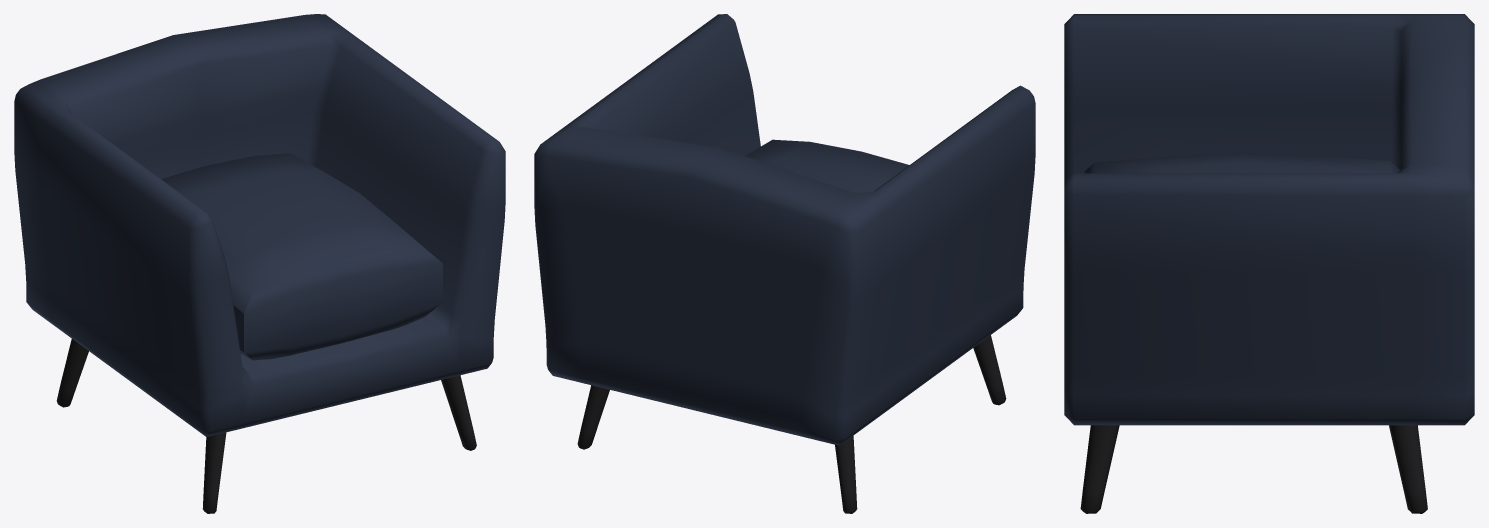
File: pk_accent_navy.glb
The picture shows the model from 3 angles, left to right: view 1: azimuth 30°, elevation 25°; view 2: azimuth 150°, elevation 25°; view 3: azimuth 270°, elevation 25°; orthographic projection. The views are drawn at different scales.
Visible parts, largest first — view 1: pk_accent_navy; view 2: pk_accent_navy; view 3: pk_accent_navy.
Part boxes in pixels (<box>): pk_accent_navy: <box>14,14,505,513</box>; pk_accent_navy: <box>534,14,1035,513</box>; pk_accent_navy: <box>1064,14,1474,513</box>.
Size of the model in its own units: 0.82 by 0.8 by 0.82.
Materials: 1 (1 with a texture image).
